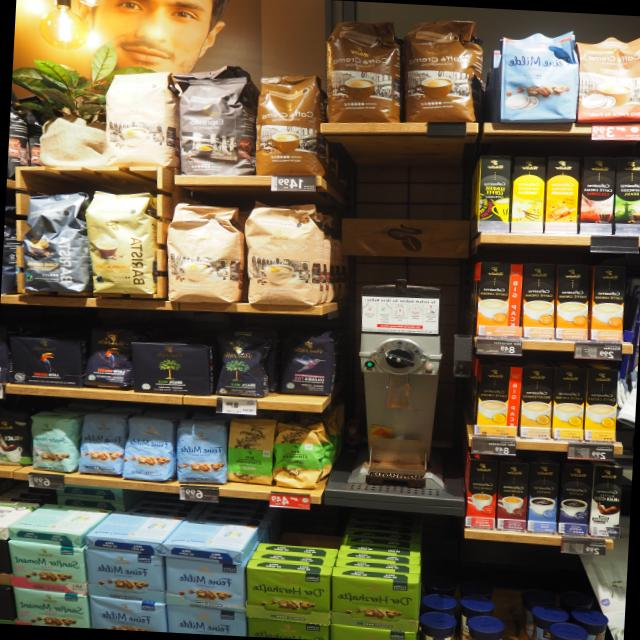Athiopien Bohne: (272, 421, 326, 490)
Athiopien Gemahlen: (226, 416, 279, 485)
BM Bohne: (213, 333, 274, 399)
BM Gemahlen: (129, 341, 213, 397)
Barista CB: (80, 188, 164, 298)
Barista CC: (20, 188, 94, 296)
C Fino Bohne: (277, 329, 337, 396)
CC Mild: (238, 196, 328, 308), (162, 200, 248, 306), (100, 68, 184, 174)
CC Vollmundig: (574, 34, 640, 125)
CC Vollmundig 36 Pads: (398, 15, 487, 127), (324, 15, 403, 125), (252, 72, 326, 180)
Empty Shelf: (240, 524, 344, 564), (271, 333, 328, 403), (263, 514, 348, 549)
Espresso Aromatisch: (174, 71, 258, 179)
FM 36 Pads: (494, 29, 583, 127)
FM Bohne: (174, 416, 232, 486), (121, 414, 180, 482), (76, 410, 131, 478)
FM Gemahlen: (164, 556, 248, 613), (84, 548, 165, 604), (85, 511, 185, 545), (163, 519, 259, 554)
Herzhatfe Mundig: (330, 574, 420, 634), (246, 567, 331, 626)
LG Bohne: (80, 324, 141, 390)
LG Gemahlen: (8, 334, 83, 388)
SM Bohne: (29, 409, 83, 474)
SM Gemahlen: (8, 542, 86, 595), (8, 503, 113, 537), (13, 588, 91, 628)
Simo CC Colombia: (577, 156, 617, 236)
Simo CCMild: (473, 363, 523, 438)
Simo CCMild bigpack: (583, 366, 621, 443), (552, 365, 586, 442)
Simo CCVollmundig: (473, 261, 524, 339)
Simo CCVollmundig bigpack: (554, 263, 592, 342), (589, 265, 627, 342), (522, 262, 557, 341)
Simo Decaff: (519, 365, 553, 440)
Simo Es Brazil: (612, 155, 640, 238)
Simo Es Caramel: (544, 154, 581, 237)
Simo Es Elegant: (465, 457, 498, 530)
Simo Es Kraft: (494, 459, 530, 531)
Simo Es Vanilla: (508, 155, 547, 235)
Simo Kaffee BW: (590, 464, 623, 536), (0, 407, 33, 468)
Simo Kaffee Kraft: (557, 463, 593, 535)
Simo Kaffee Mild: (527, 460, 562, 533)
Simo Sunrise: (475, 153, 512, 236)
